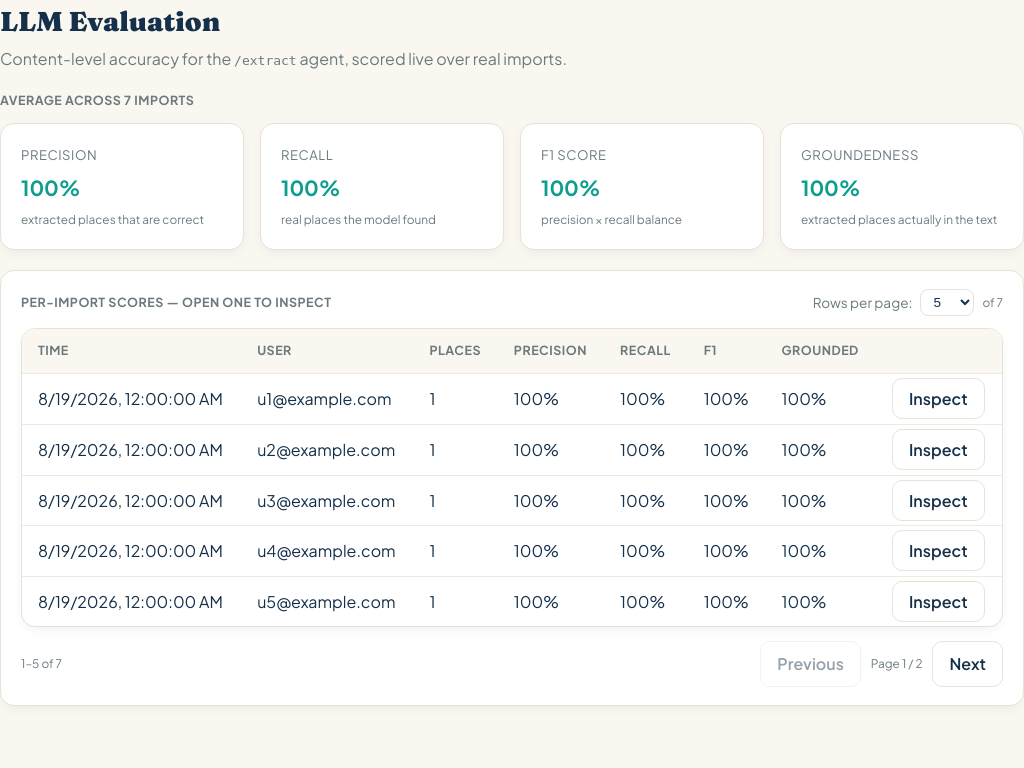
Test: AdminEvalPage pagination › changing the page size shows more rows and resets to page 1
The width and height of the screenshot is (1024, 768).
Check: the text "Page 1 / 2" is shown, box [871,655,922,674]
Note: Go to page 2 first, then grow the page size — should snap back to page 1 with all rows.
Click the button "Next".
click(968, 664)  # box [932,641,1003,687]
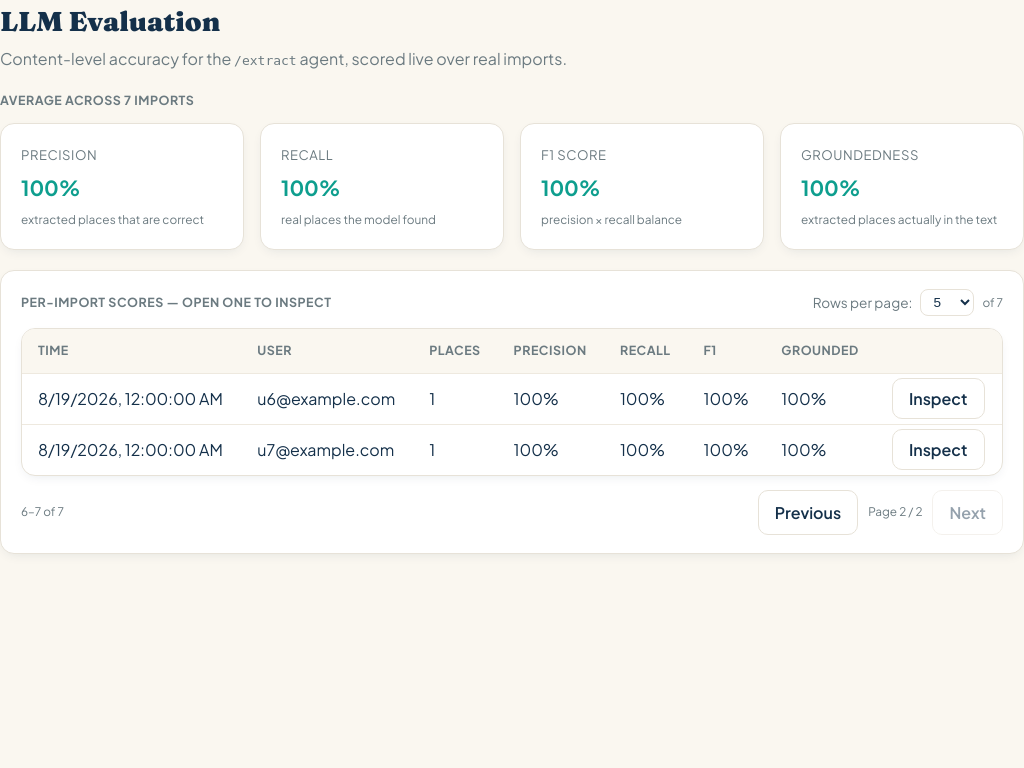
Select "10" in the dropdown labelled "Rows per page" at (947, 303), box [920,290,974,316]
(page scrolled)
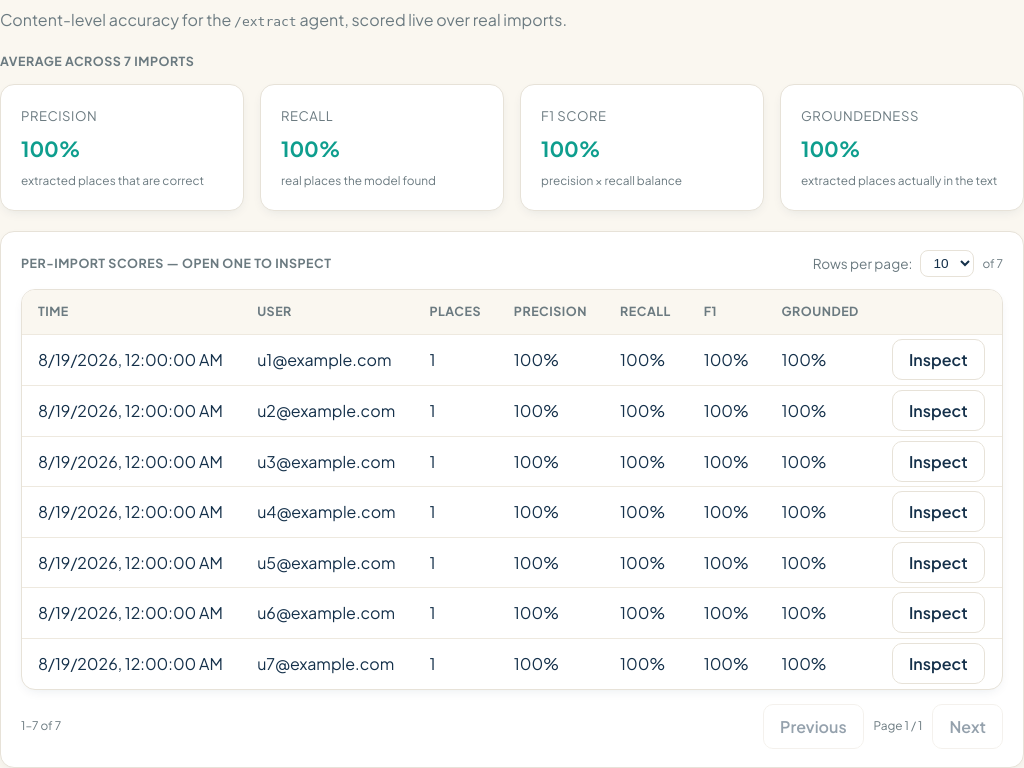
Check: the text "1–7 of 7" is shown, box [21,717,61,736]
Check: the text "Page 1 / 1" is shown, box [874,717,922,736]
